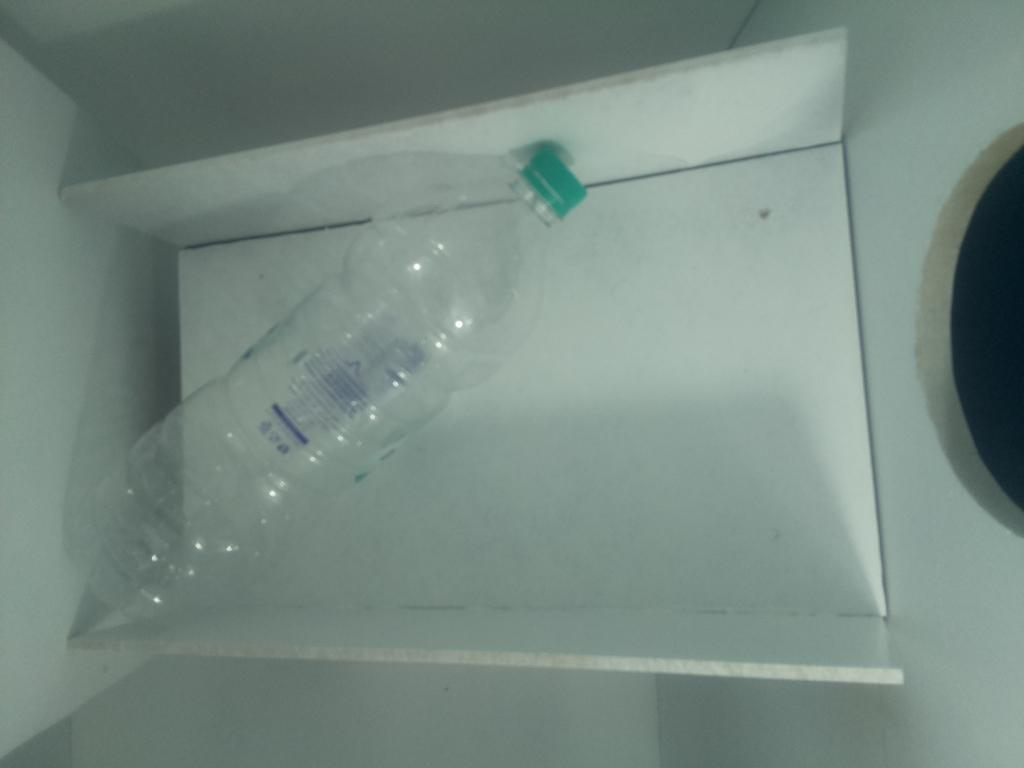BIODEGRADABLE: (141, 270, 848, 743)
